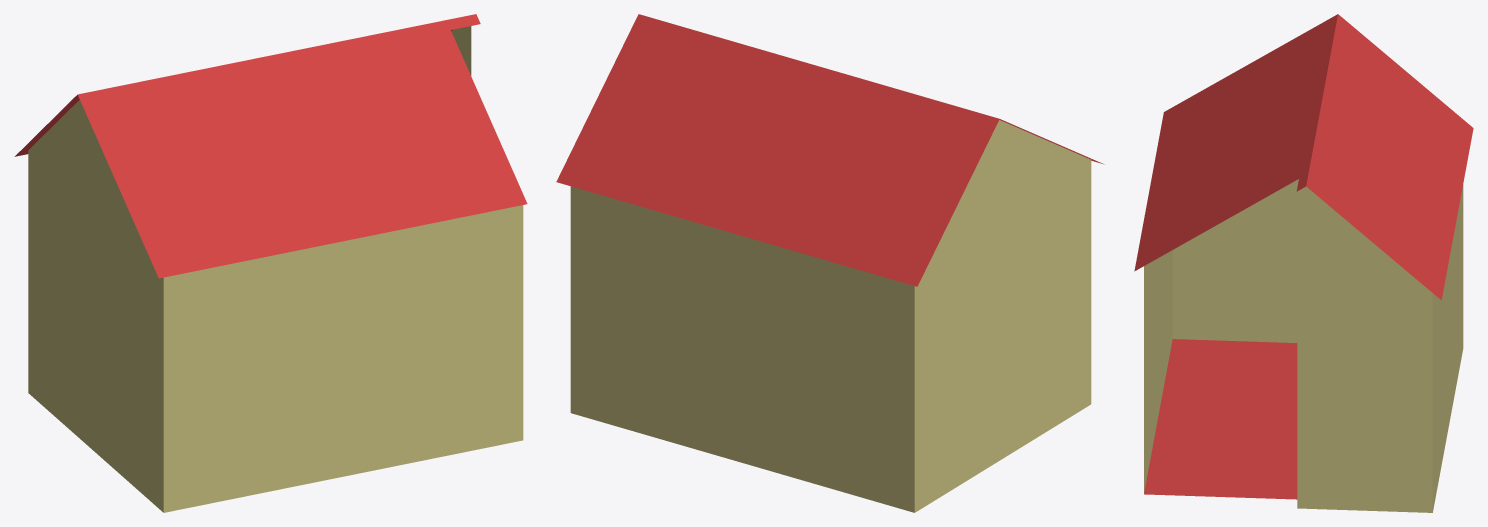
The picture shows the model from 3 angles, left to right: view 1: azimuth 30°, elevation 25°; view 2: azimuth 150°, elevation 25°; view 3: azimuth 270°, elevation 25°; orthographic projection. The views are drawn at different scales.
Size of the model in its own units: 11.26 by 8.84 by 9.38.
